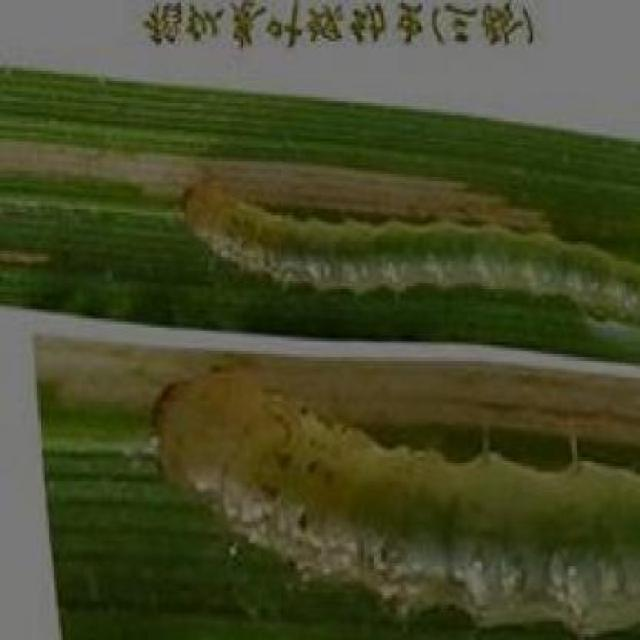leaf-folder: (154, 376, 640, 633), (162, 137, 635, 348)
